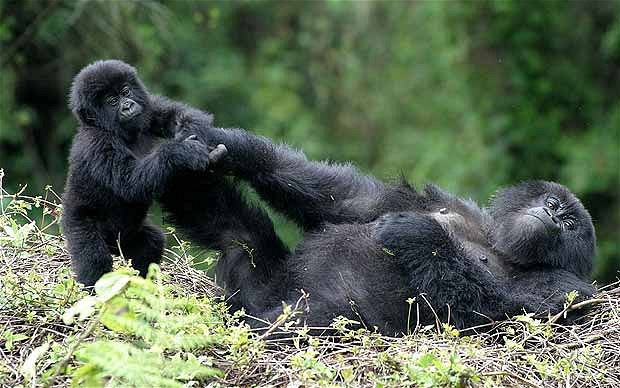Goriila: (250, 119, 603, 345), (45, 51, 215, 309)
